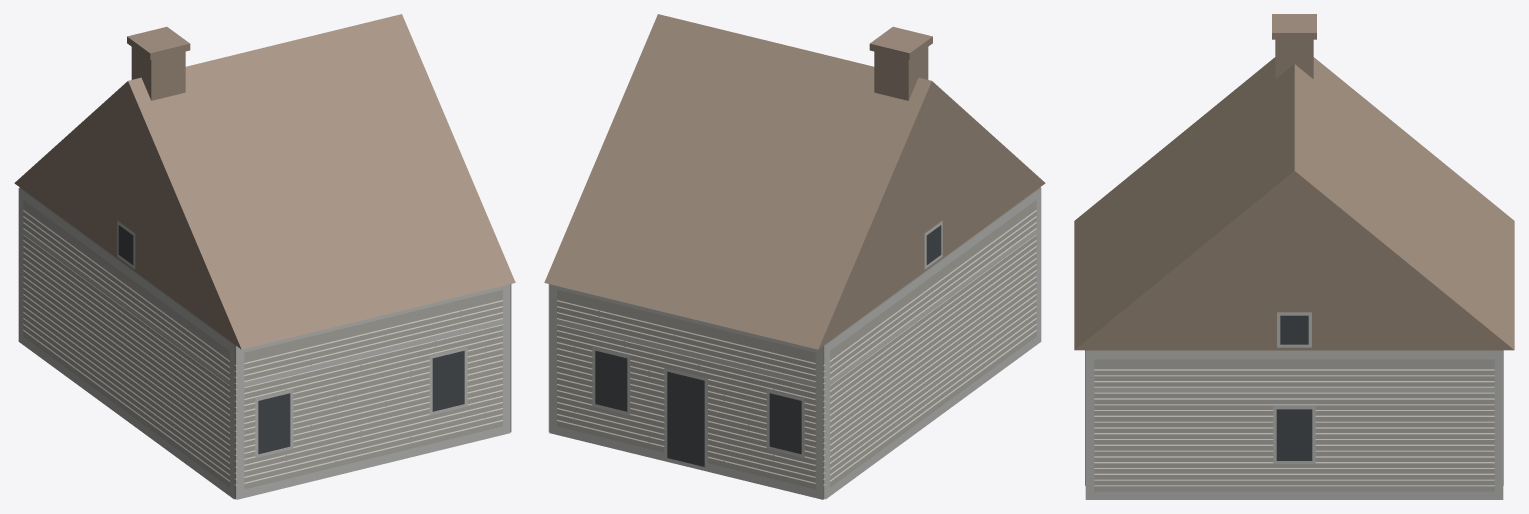
File: recon_1835_north_d6_044__inferred_1835.glb
3 renders of one model, left to right at view 1: azimuth 30°, elevation 25°; view 2: azimuth 150°, elevation 25°; view 3: azimuth 270°, elevation 25°, orthographic. The views are drawn at different scales.
Visible parts, largest first — view 1: recon_1835_north_d6_044__inferred_1835; view 2: recon_1835_north_d6_044__inferred_1835; view 3: recon_1835_north_d6_044__inferred_1835.
Part boxes in pixels (left/top/right/bottom): recon_1835_north_d6_044__inferred_1835: left=14, top=14, right=515, bottom=499; recon_1835_north_d6_044__inferred_1835: left=544, top=14, right=1045, bottom=499; recon_1835_north_d6_044__inferred_1835: left=1074, top=14, right=1514, bottom=499.
Size of the model in its own units: 6.8 by 8.72 by 9.64.
